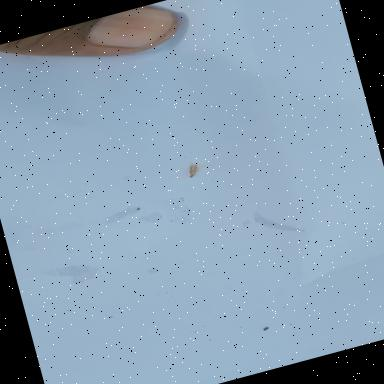pbw: (185, 162, 204, 178)
